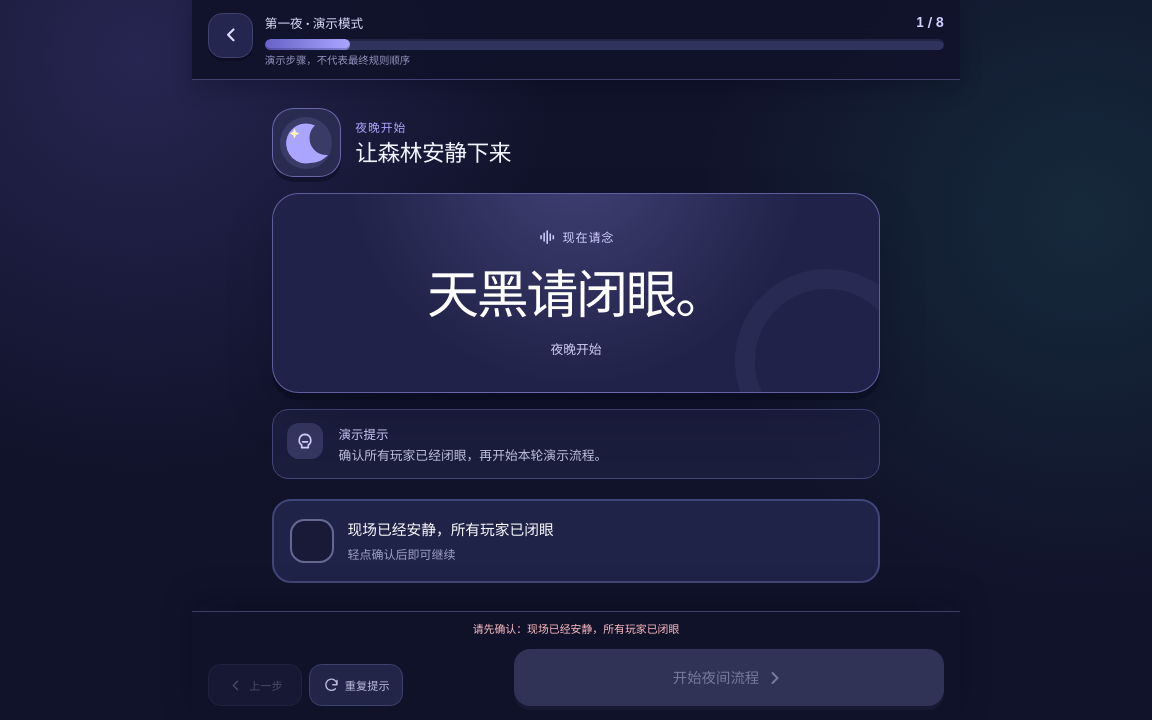
Test: 上帝夜间演示 › 允许跳过的行动需要二次确认
Click the checkbox labelled "现场已经安静，所有玩家已闭眼 轻点确认后即可继续" at (312, 541), box [272, 499, 880, 583]
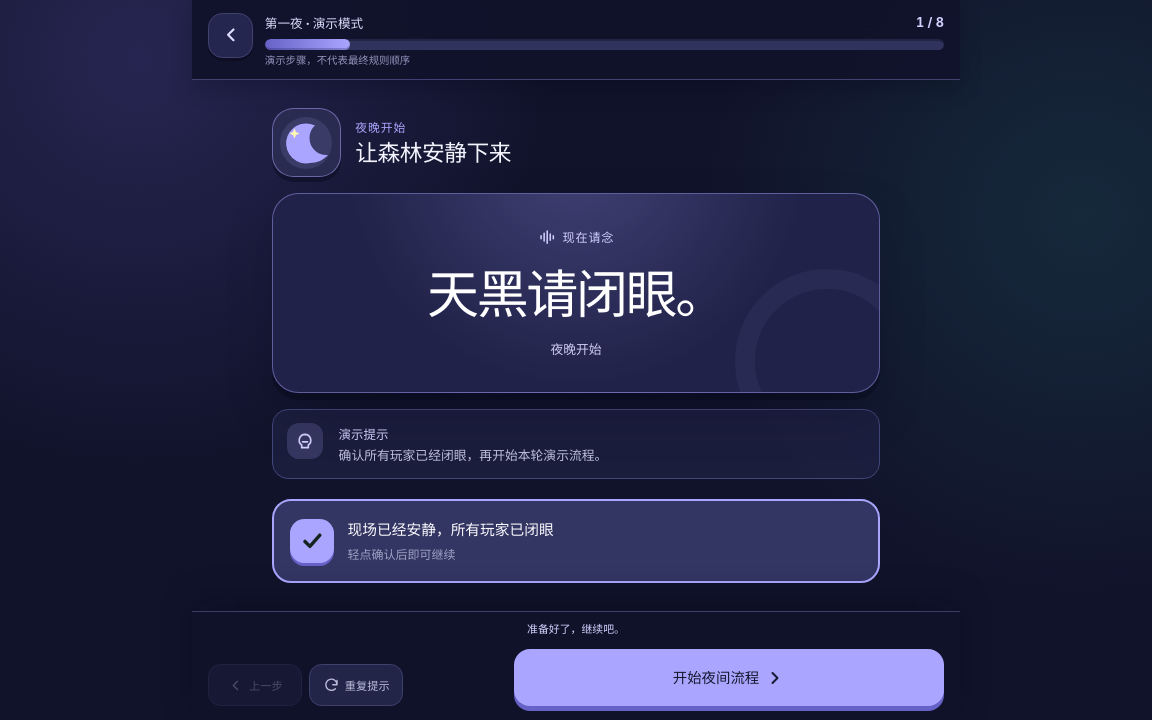
Click the button "开始夜间流程" at (729, 678), box [514, 649, 944, 706]
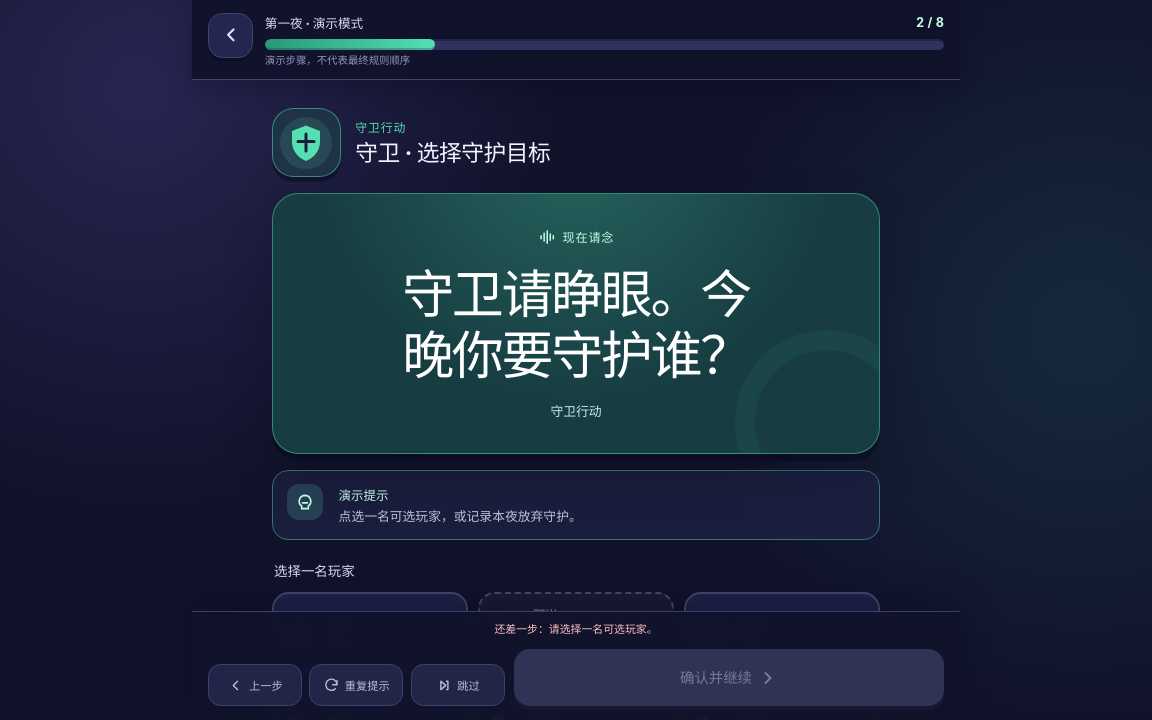
Click the button "跳过" at (458, 685), box [411, 664, 505, 706]
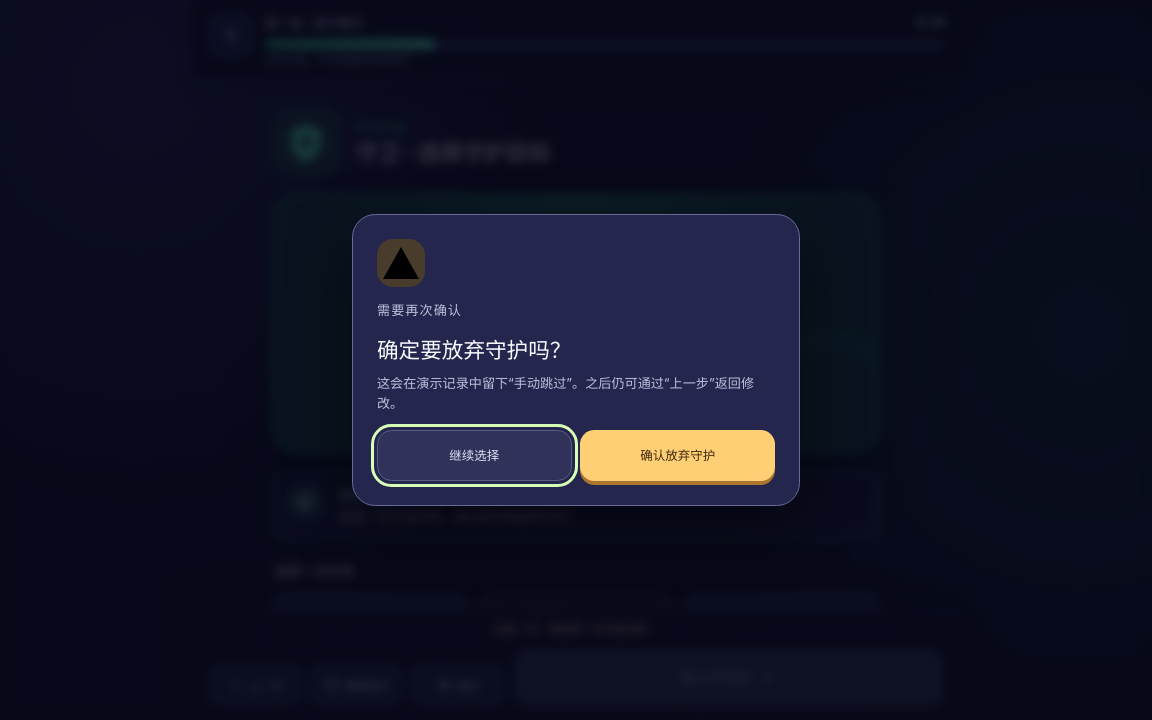
Expected: the dialog "确定要放弃守护吗？" is shown, [352, 214, 800, 506]
Click the button "确认放弃守护" at (678, 455), box [580, 430, 775, 481]
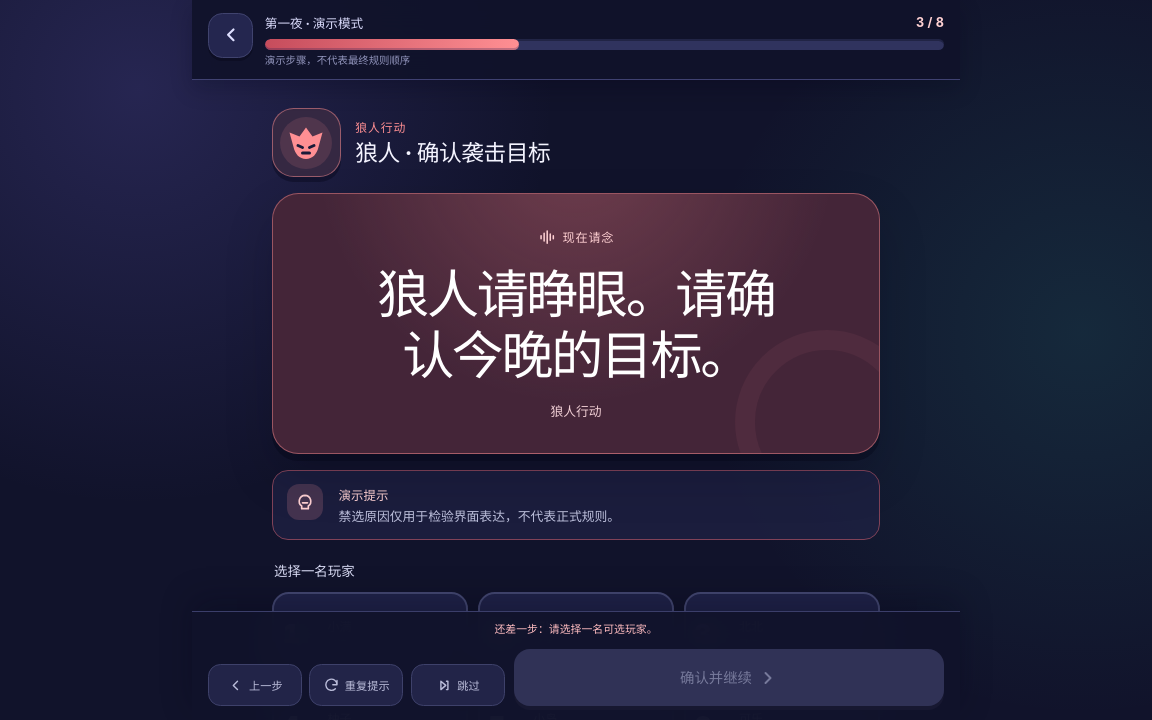
Expected: the heading "狼人 · 确认袭击目标" is shown, [355, 138, 550, 167]
